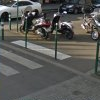crosswalk: (0, 40, 71, 76)
